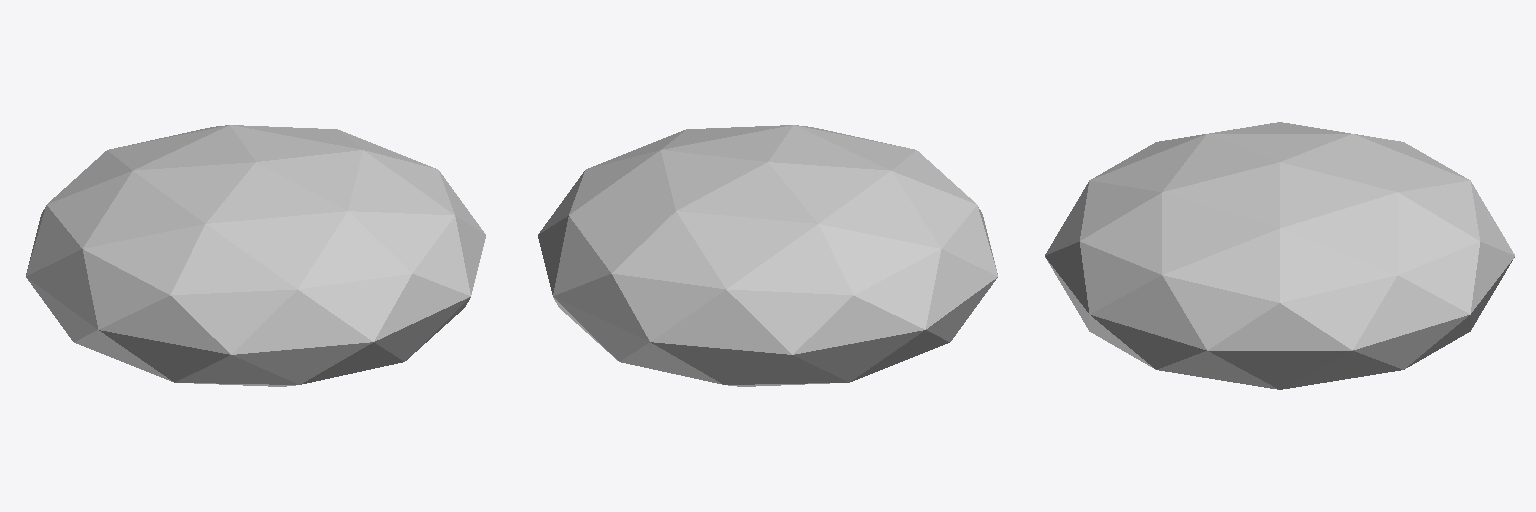
The model's file is ASIL_simple.obj.
3 views of the same model, side by side, from view 1: azimuth 30°, elevation 25°; view 2: azimuth 150°, elevation 25°; view 3: azimuth 270°, elevation 25° (orthographic).
Bounding box in the file's own units: 0.6346 × 0.2935 × 0.6673.